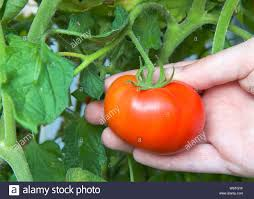tomato: (104, 75, 206, 152)
